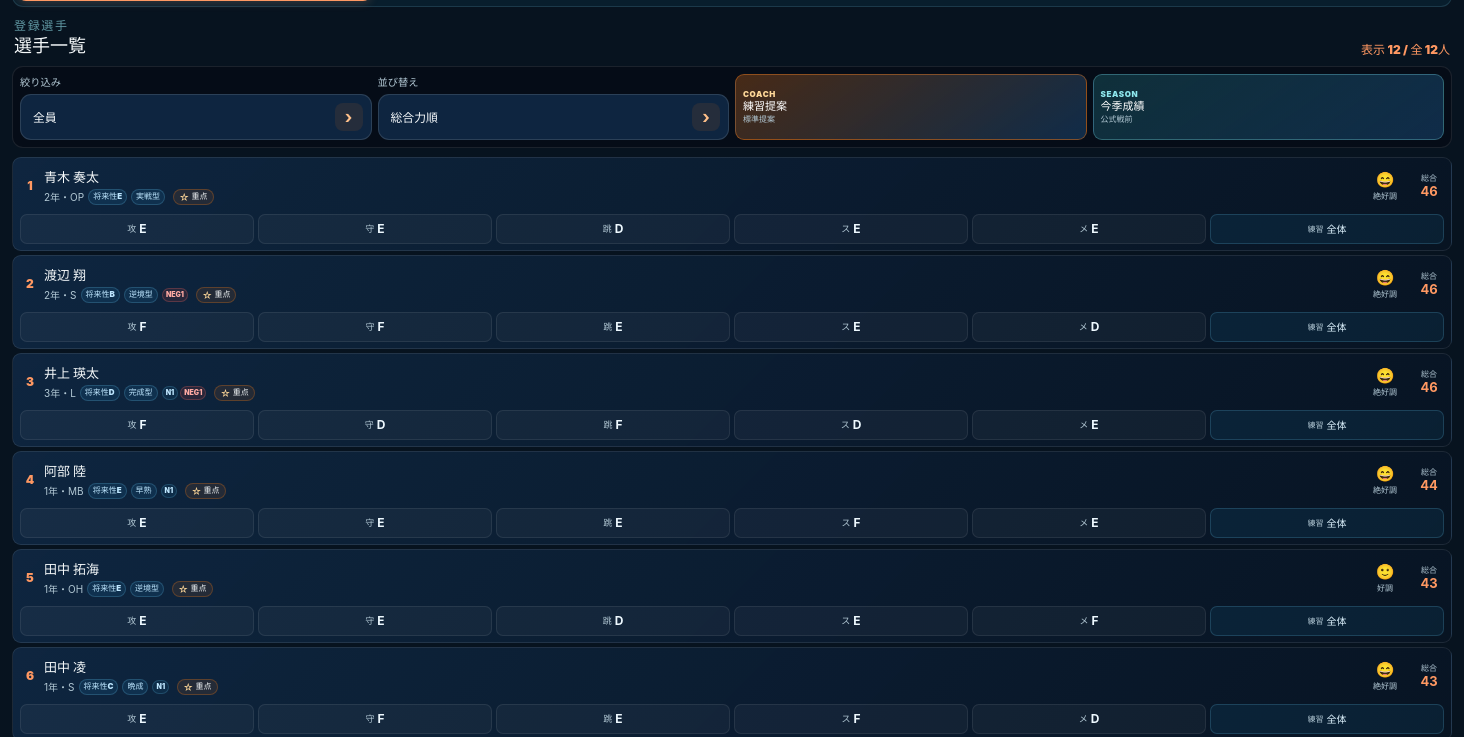
Test: PlayerHubScreen › shows recent growth momentum beside the training choice without adding another row
The width and height of the screenshot is (1464, 737).
Click the button "田中 拓海" at (72, 568), box [38,554,105,582]
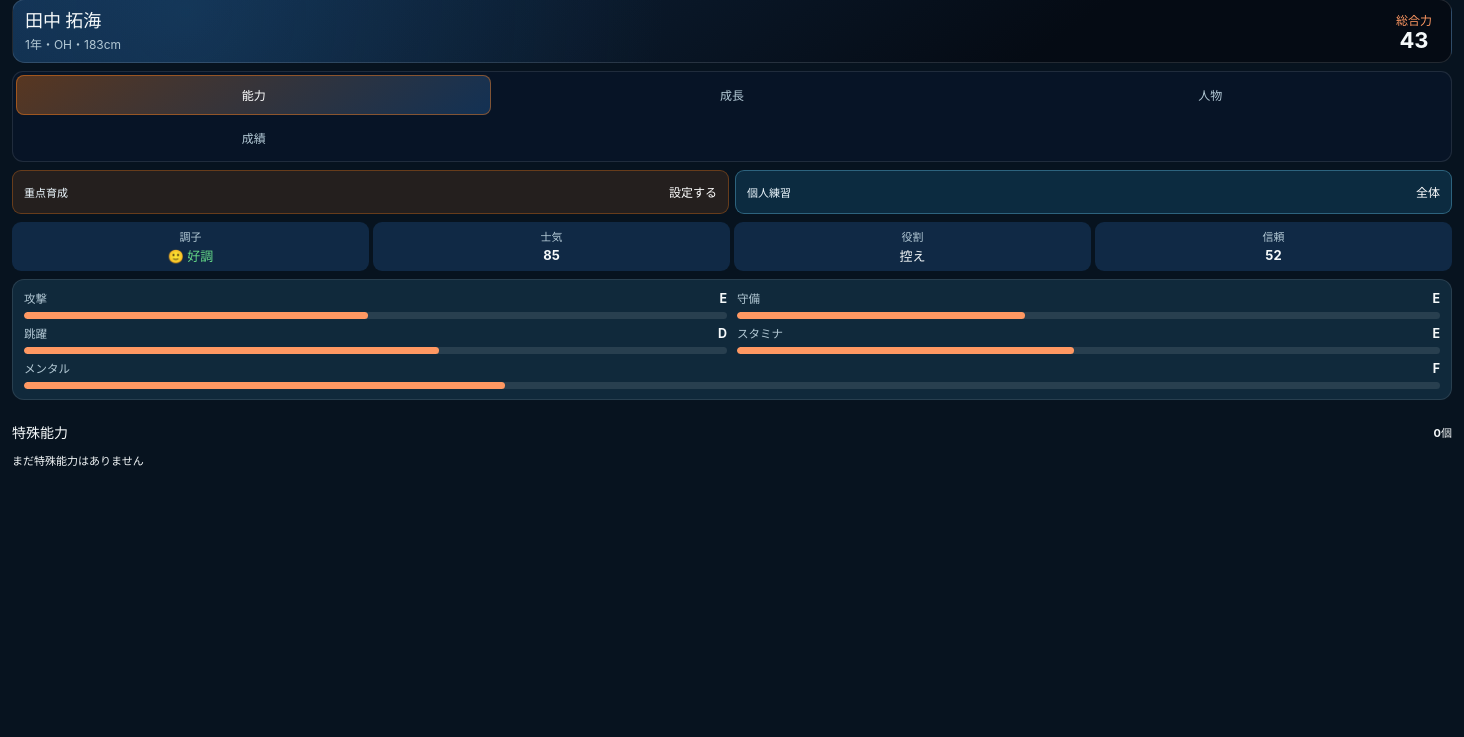
Click the button "成長" at (732, 95), box [494,75,970,115]
(page scrolled)
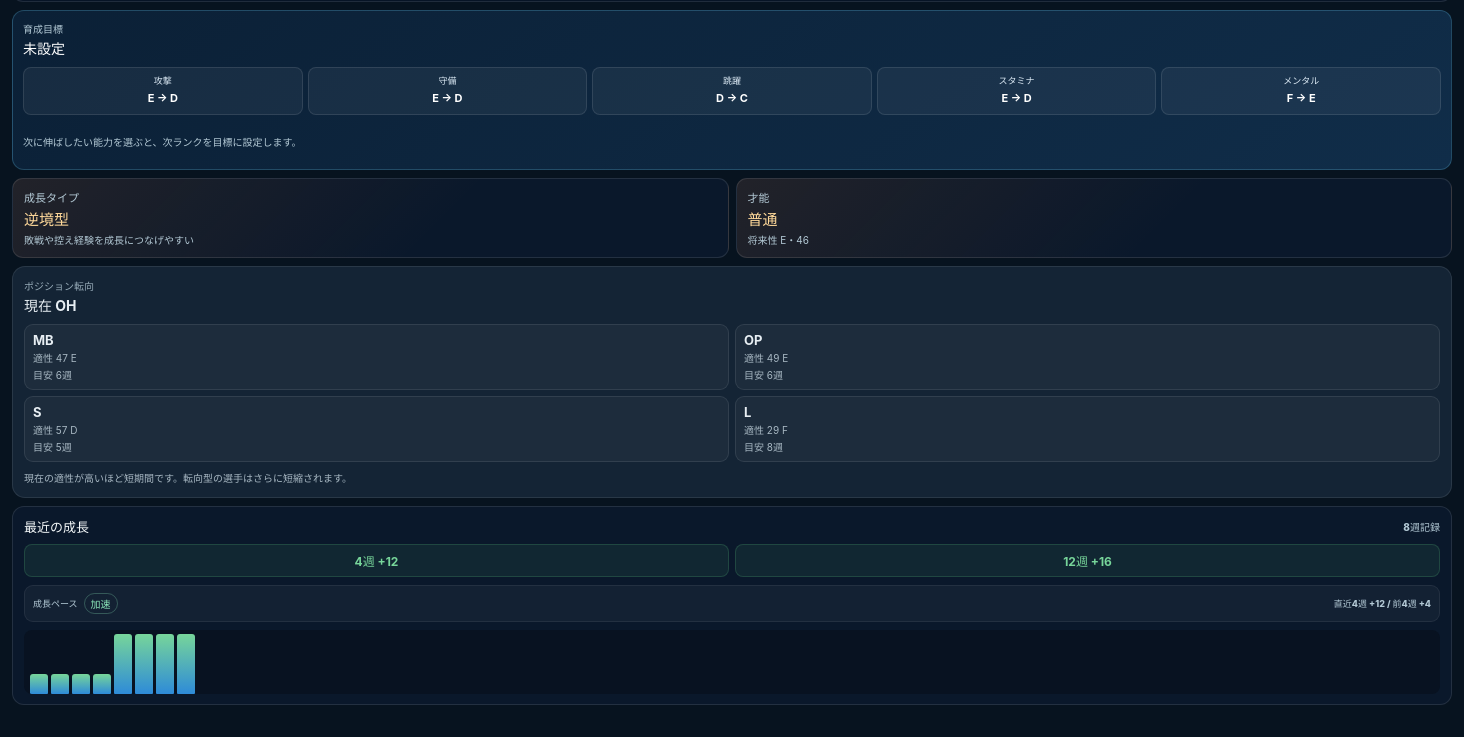
Check: the text "加速" is shown, box [84,593,118,614]
Check: the text "直近4週 +12 / 前4週 +4" is shown, box [1334,598,1431,609]
